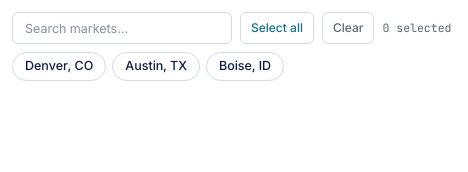
Test: ValueInput — market picker (multi-select + search) › filters the chips as the user types in the search box
Type "aus" into the field with placeholder "Search markets…". click: (122, 28)
box: [12, 12, 232, 44]
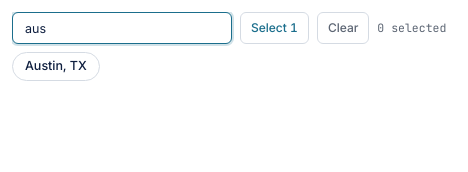
Expected: the button "Austin, TX" is shown, [12, 52, 100, 81]
Expected: the button "Denver, CO" is gone
Expected: the button "Boise, ID" is gone
